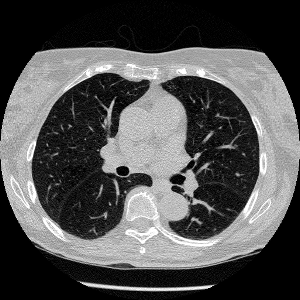nodule: (235, 172, 239, 176)
